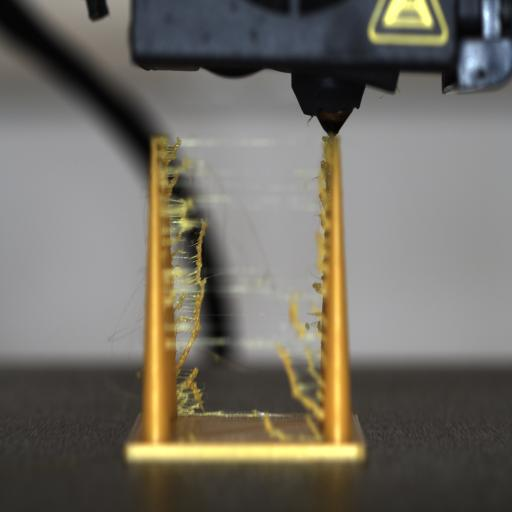stringing: (192, 218, 208, 288), (189, 380, 205, 412), (173, 292, 186, 312), (185, 367, 199, 385)
